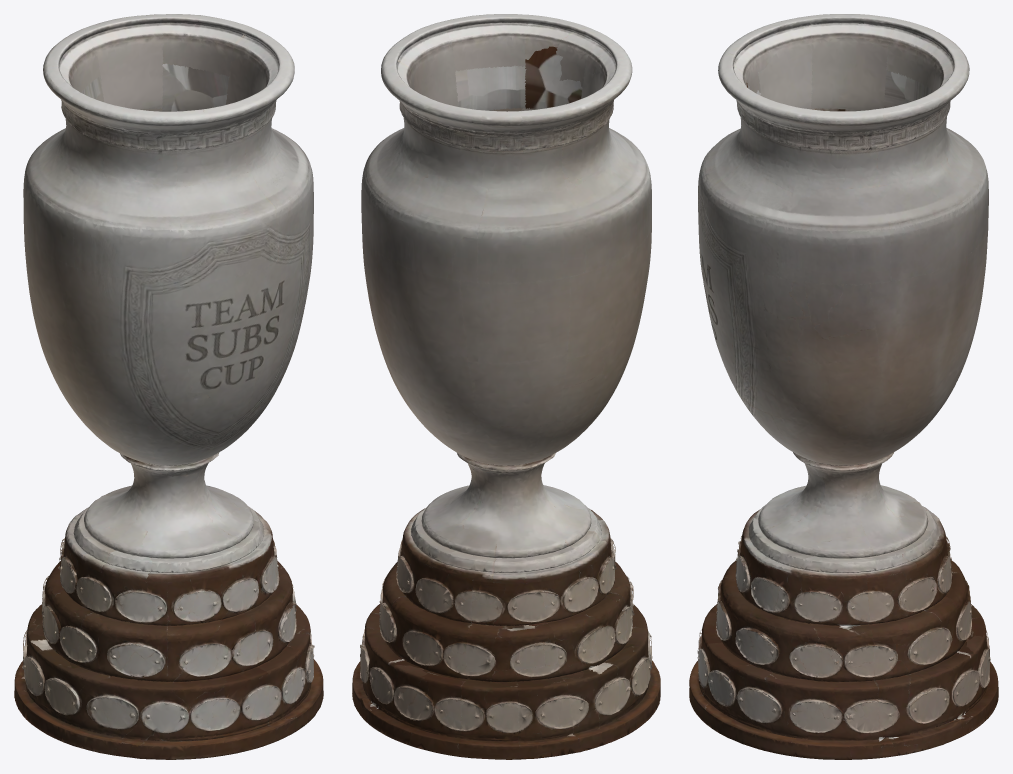
Rendered from copa_8.glb.
3 renders of one model, left to right at view 1: azimuth 30°, elevation 25°; view 2: azimuth 150°, elevation 25°; view 3: azimuth 270°, elevation 25°, orthographic.
Parts seen in each view (by area): view 1: tmp2l4cx_oiobj; view 2: tmp2l4cx_oiobj; view 3: tmp2l4cx_oiobj.
Boxes of the visible parts, x1,y1,x2,y2 form: tmp2l4cx_oiobj: [14, 14, 323, 759]; tmp2l4cx_oiobj: [352, 14, 660, 759]; tmp2l4cx_oiobj: [689, 14, 998, 759].
Bounding box in the file's own units: 0.4434 × 1 × 0.4448.
1 material, 1 textured.
